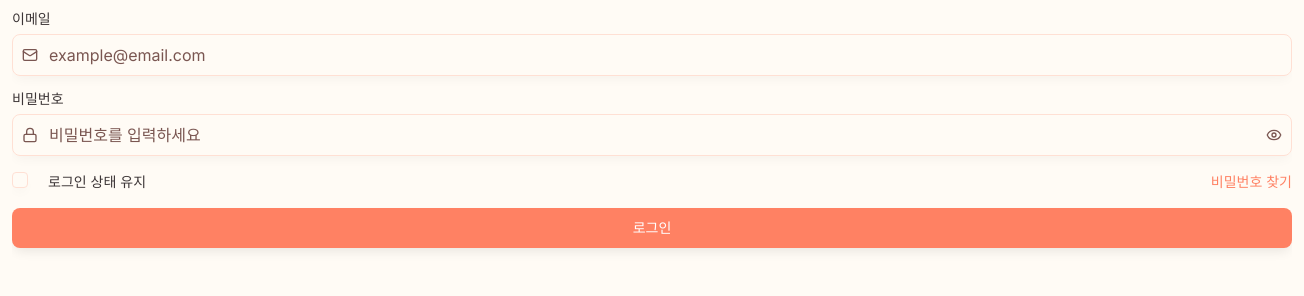
Test: SignInForm › Form validation › should validate required password field
Type "test@example.com" into the field with placeholder "example@email.com".
click(652, 55); type("test@example.com")  # box top-left (12, 34), bottom-right (1292, 76)
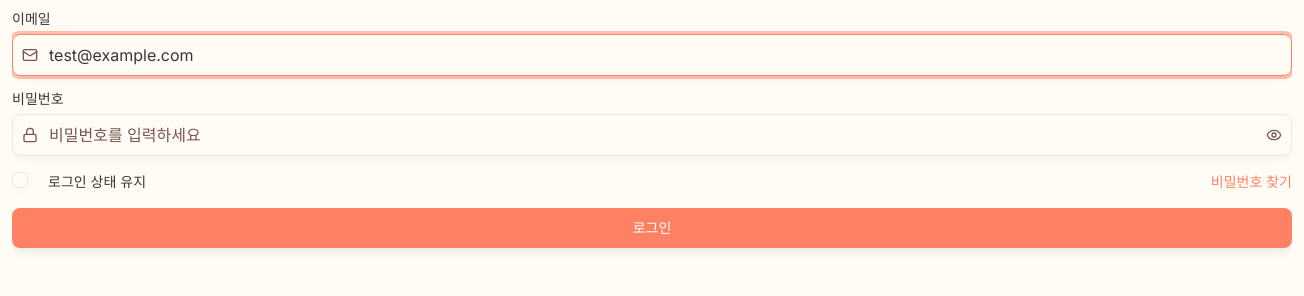
Click the button "로그인".
click(652, 228)  # box top-left (12, 208), bottom-right (1292, 248)
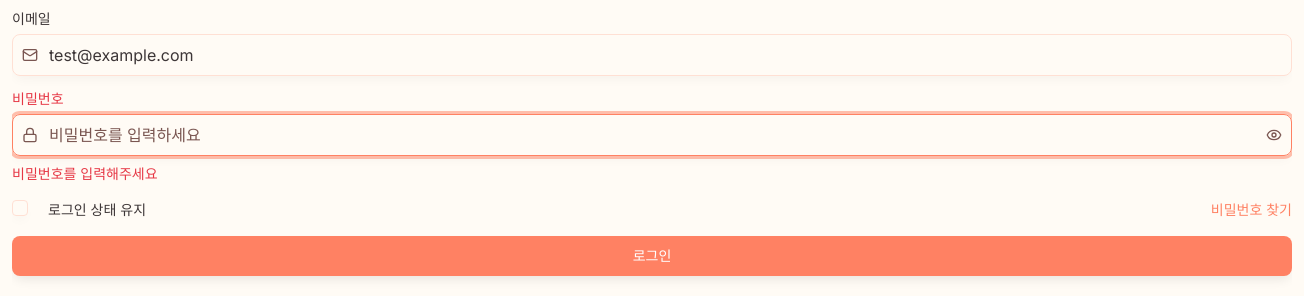
Expected: the text "비밀번호를 입력해주세요" is shown, top-left (12, 165), bottom-right (158, 182)
